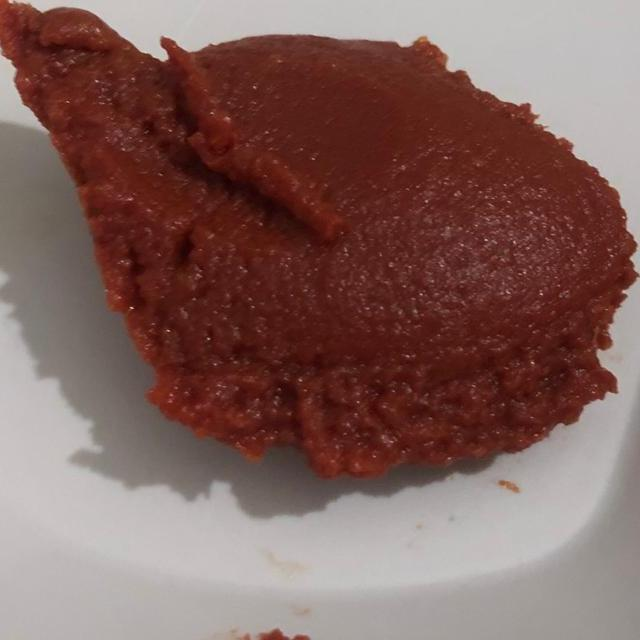tomato: (0, 0, 640, 530)
